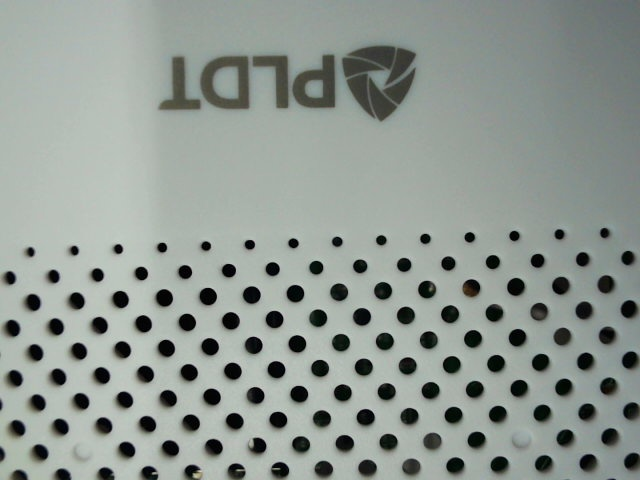BH_PLDT: (147, 32, 436, 146)
